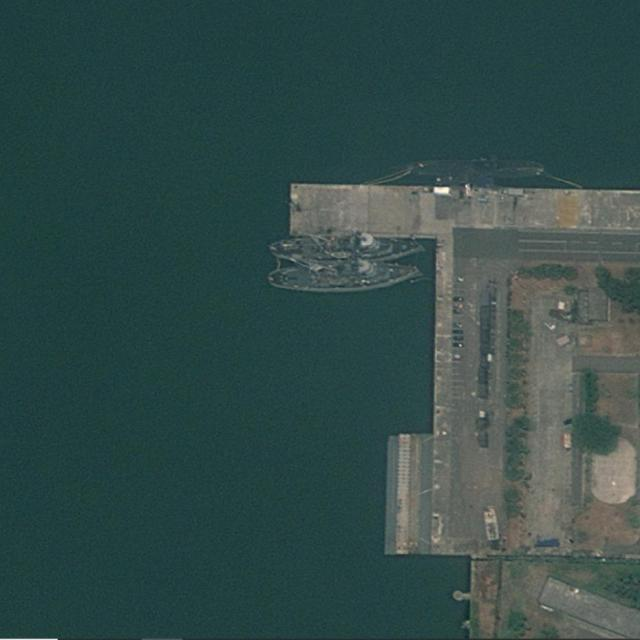Other Warship: (268, 235, 423, 263), (266, 264, 422, 291)
Submarine: (409, 160, 545, 179)
